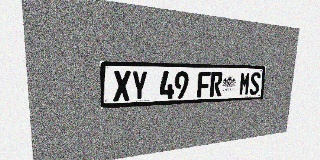4: (159, 71, 175, 99)
9: (174, 71, 189, 99)
F: (197, 71, 211, 97)
M: (239, 72, 251, 95)
R: (209, 72, 223, 97)
S: (249, 72, 261, 95)
X: (113, 70, 131, 101)
Y: (131, 71, 148, 101)
